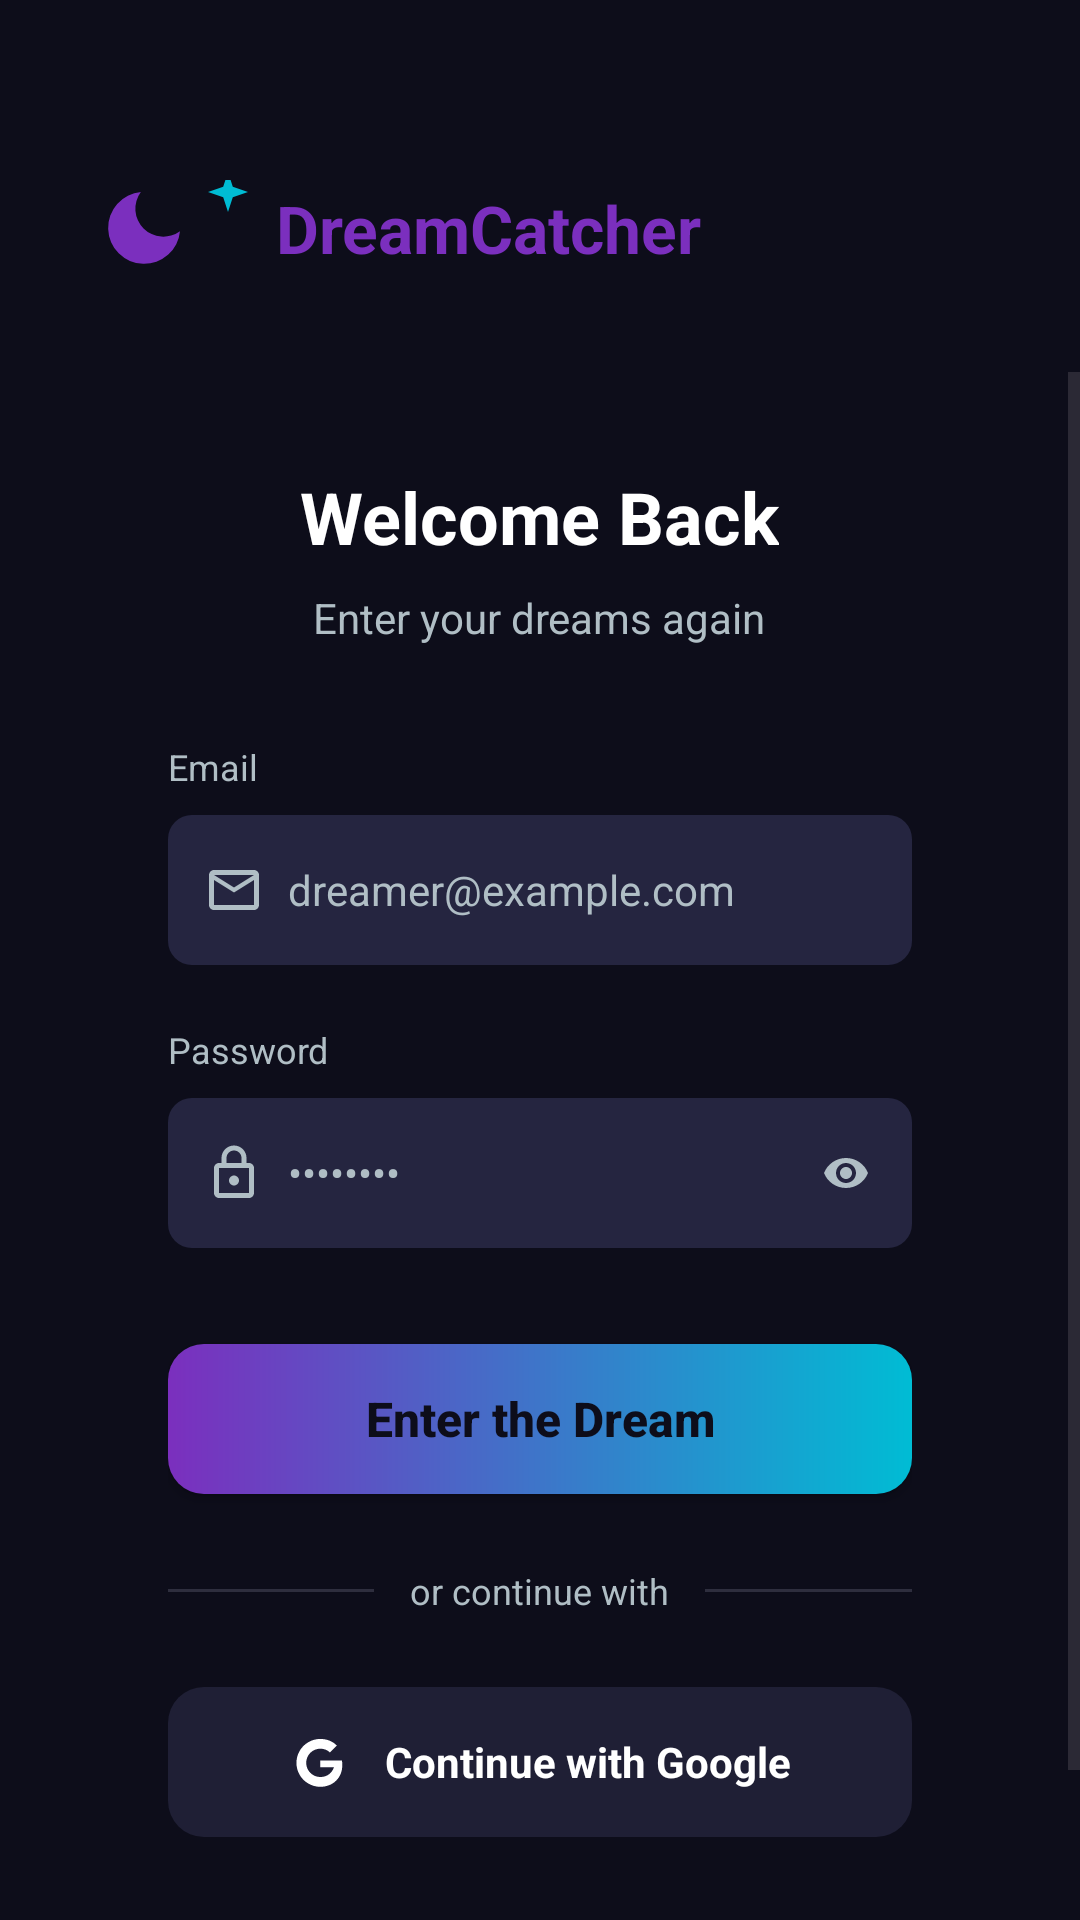

Screen size 1080 x 1920. Icon name, then its center in pixels as (x,y):
eye: (846,1173)
lock: (234,1171)
moon: (144,228)
